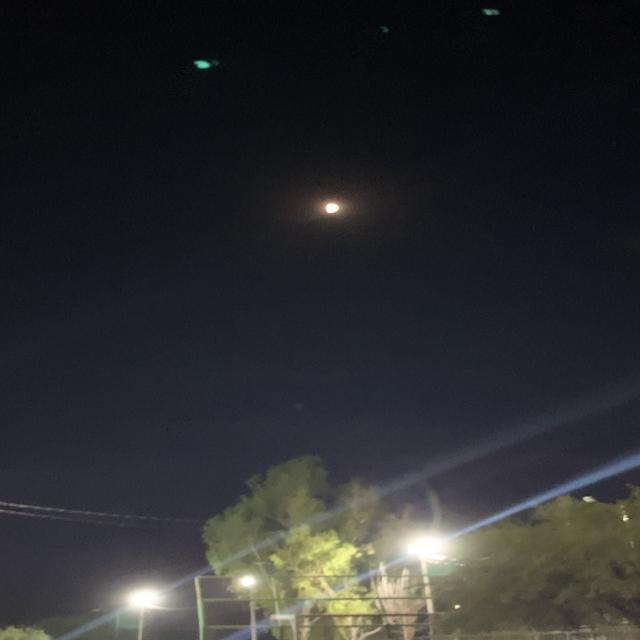moon: (299, 190, 355, 218)
